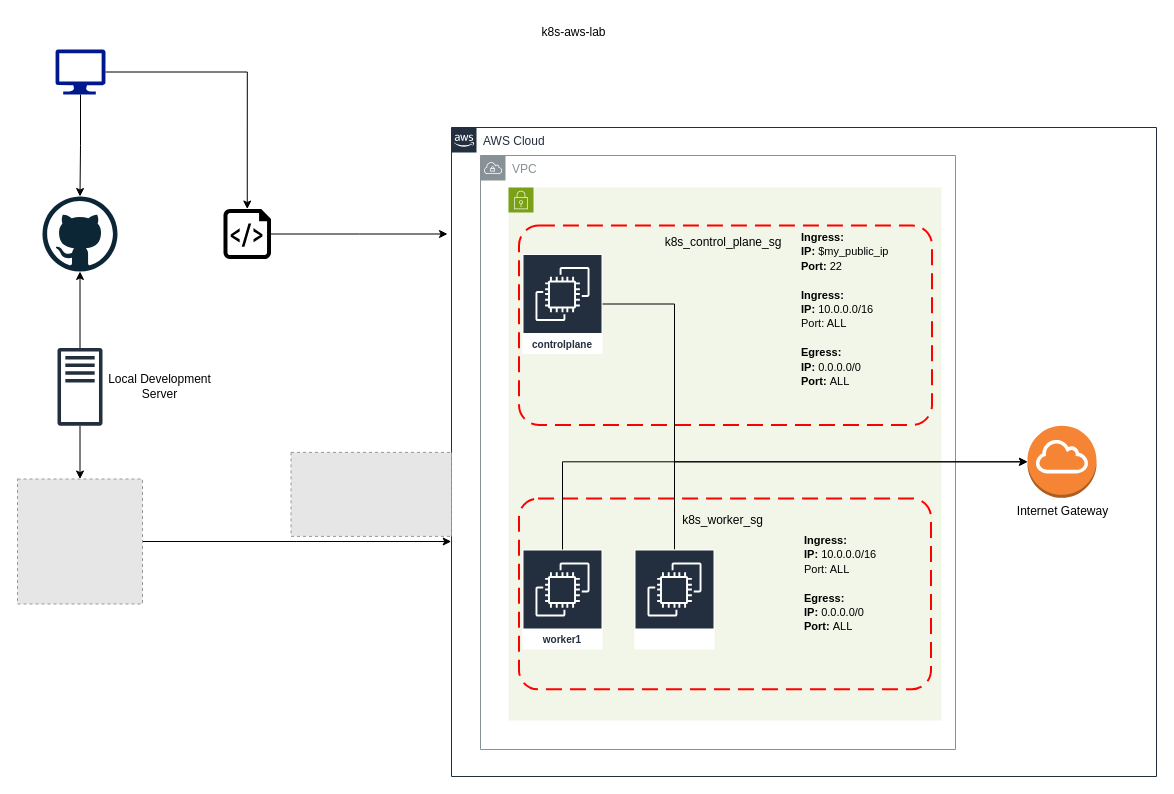
This 1174x794 diagram has some shape labels left out. Grey dashed boxes stand in for pictures. The shapes that lost their labels are listed below. From the top down, each one's box as (x1, y1, x2, y2) in pixels, then its label:
(223, 208, 270, 258): manage-instances.sh {start|stop|restart|status}
(508, 186, 942, 720): Public subnet
(634, 548, 714, 650): worker2
